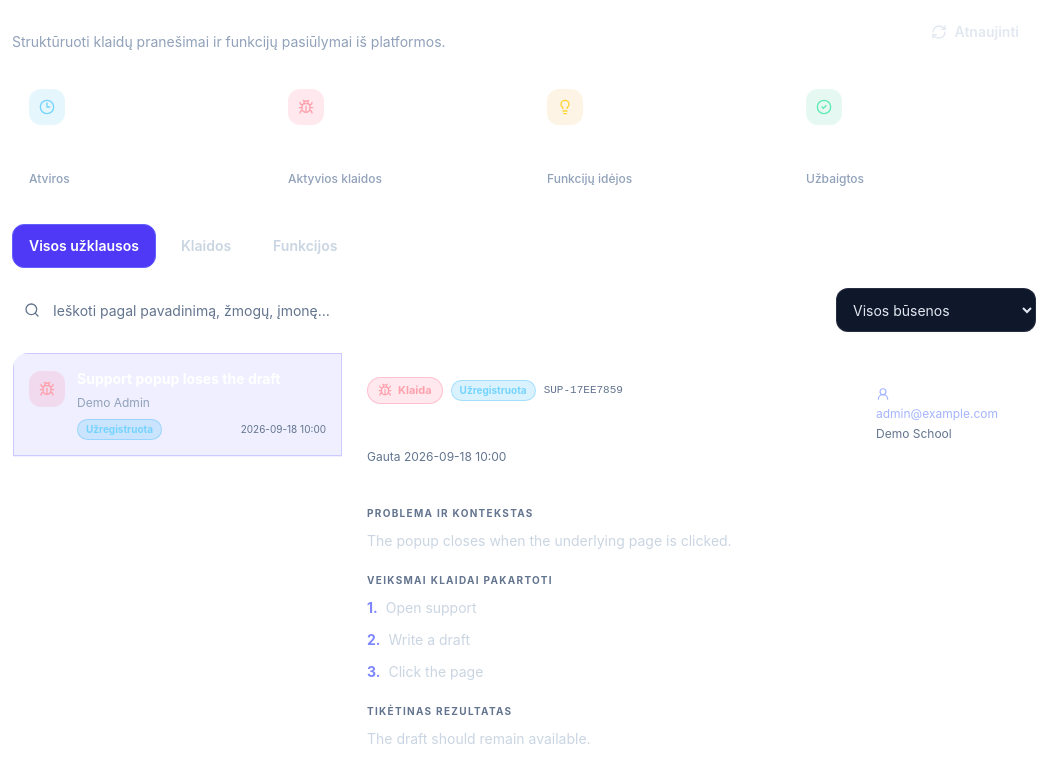
Test: admin support requests › clears the editor when the selected category has no requests
This screenshot has width=1048, height=768.
Click the button "Funkcijos": (305, 246) [256,224,354,268]
(page scrolled)
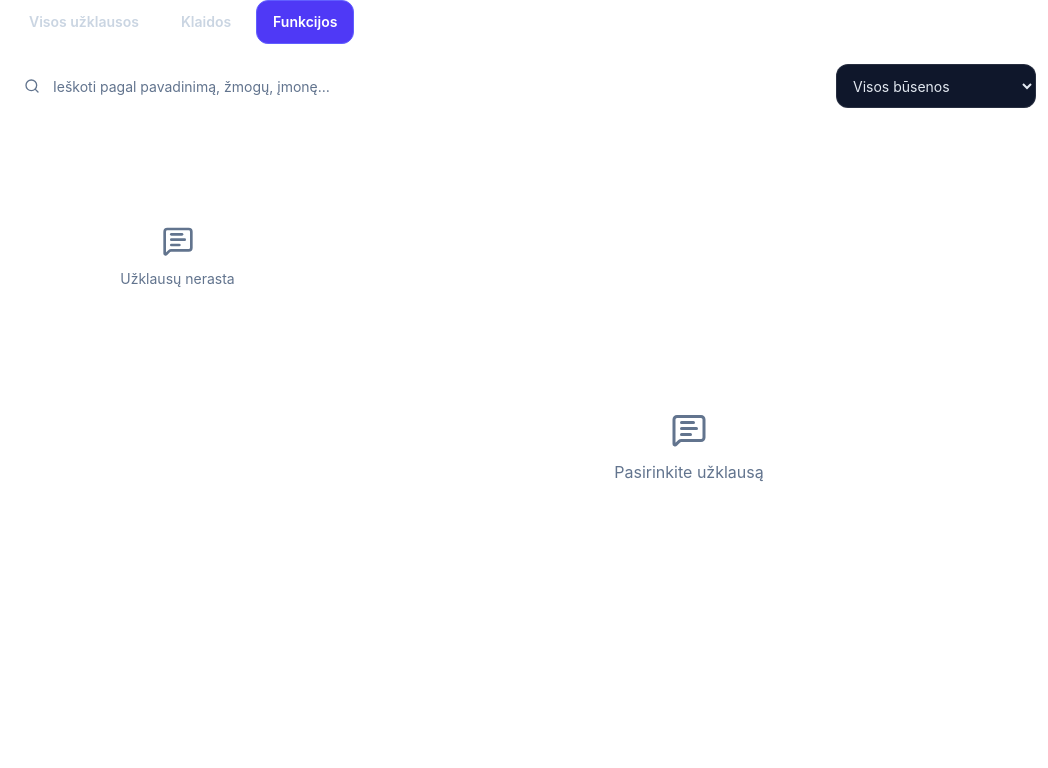
Expected: the button "Support popup loses the draft" is not shown
Result: the text "Užklausų nerasta" is shown at [120,225,235,287]
Result: the text "Pasirinkite užklausą" is shown at [614,412,764,482]
